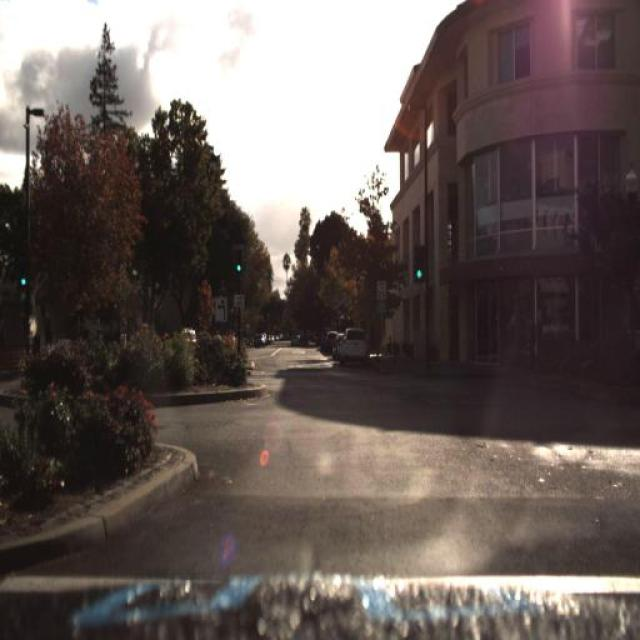car: (338, 319, 370, 365)
trafficLight: (522, 312, 538, 372)
trafficLight-Green: (14, 258, 30, 302), (232, 244, 249, 284), (412, 236, 427, 276)
trafficLight-GreenLeft: (234, 243, 245, 281), (20, 253, 28, 288)
